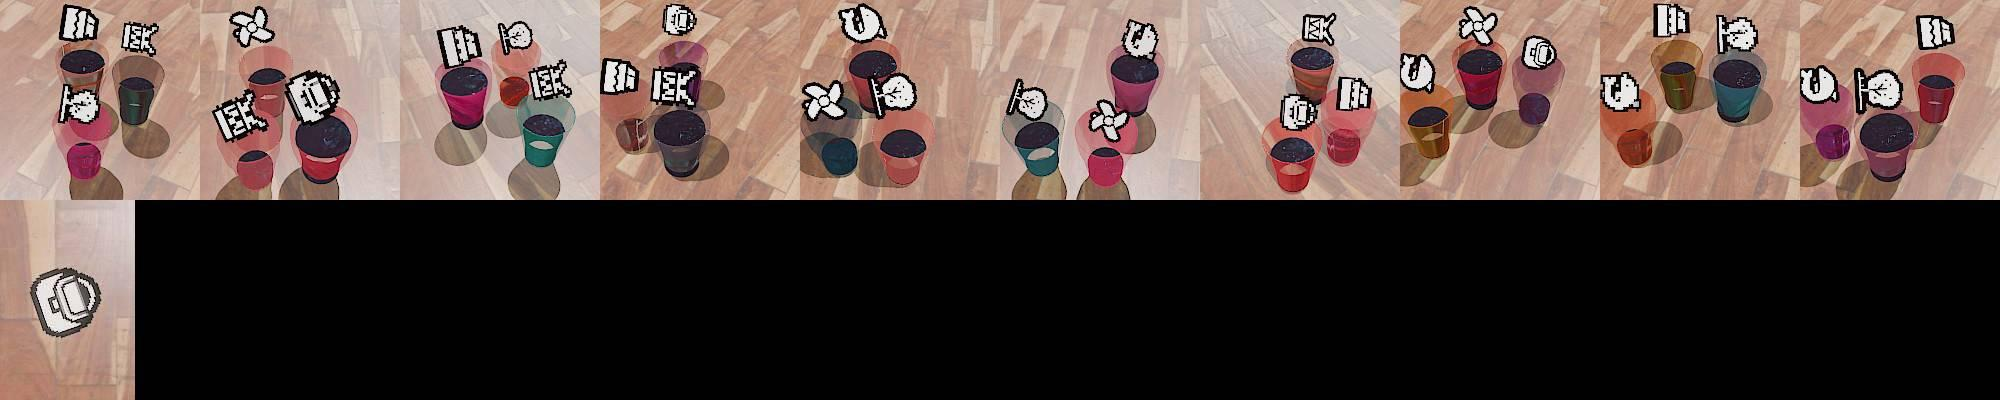icon: (28, 266, 102, 338), (211, 88, 270, 142), (283, 69, 340, 124), (649, 64, 701, 110), (434, 24, 484, 69), (1853, 67, 1903, 111), (1005, 78, 1050, 123), (800, 79, 848, 121), (56, 81, 100, 126), (839, 3, 887, 44), (527, 59, 572, 102), (229, 6, 274, 49), (1600, 70, 1644, 112), (1087, 97, 1129, 140), (1715, 14, 1758, 55), (875, 72, 918, 112), (1280, 92, 1320, 133), (1799, 65, 1839, 106), (59, 4, 100, 43), (1121, 18, 1159, 60), (1458, 6, 1499, 44), (600, 57, 639, 96), (1400, 51, 1434, 94), (120, 20, 159, 57), (1336, 73, 1373, 112), (1916, 15, 1955, 51), (497, 19, 535, 55), (1300, 11, 1337, 47), (1652, 3, 1689, 39), (1521, 35, 1558, 70), (662, 3, 697, 37)
